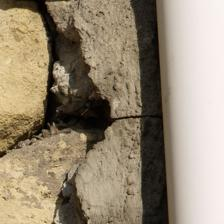Crack: (0, 50, 161, 188), (82, 0, 180, 37), (61, 22, 114, 74), (39, 122, 121, 150)
